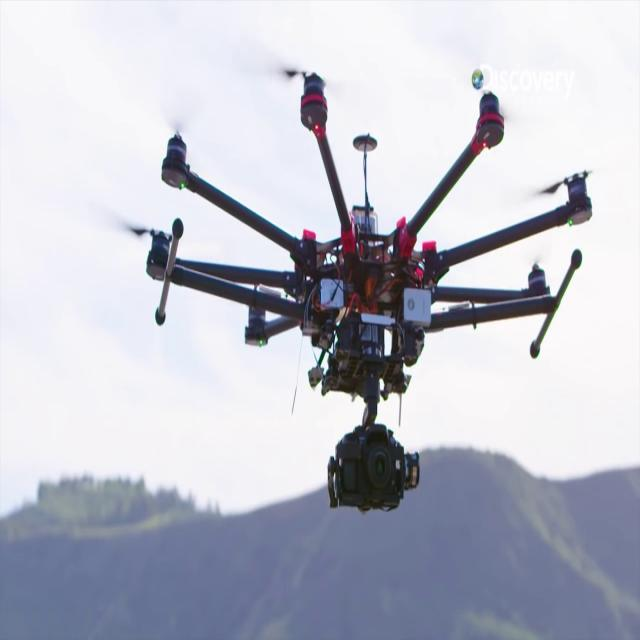drone: (118, 84, 624, 631)
